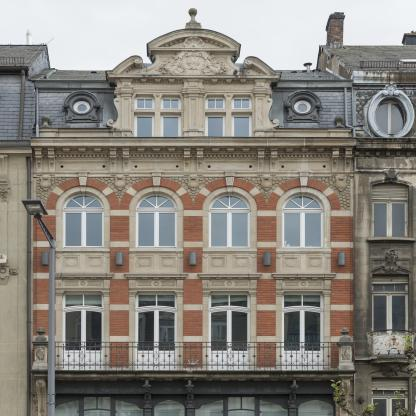Balcony: (31, 341, 355, 376)
Building Outline: (27, 8, 357, 416)
Cornice: (266, 178, 340, 210), (46, 178, 120, 210), (119, 178, 193, 210), (193, 178, 267, 210), (147, 28, 241, 52), (63, 90, 100, 108), (285, 90, 322, 108), (197, 272, 262, 280), (124, 272, 188, 280), (271, 273, 336, 280), (50, 272, 115, 279)
Deco: (155, 50, 232, 75), (157, 36, 231, 48), (39, 177, 52, 191), (187, 177, 200, 191), (260, 177, 273, 191), (114, 176, 126, 191), (335, 177, 347, 191)
Door: (62, 307, 104, 370), (135, 307, 177, 370), (282, 307, 324, 370), (209, 307, 250, 370)
Facade: (33, 80, 353, 415)
Floor: (33, 152, 353, 272), (33, 272, 353, 377)
Floor Slab: (33, 371, 353, 377), (33, 266, 353, 272), (33, 146, 353, 152)
Ground Floor: (33, 377, 353, 416)
Molding: (31, 146, 356, 159), (48, 376, 339, 382), (132, 77, 255, 84)
Pillar: (186, 89, 202, 137), (119, 90, 135, 137), (252, 90, 268, 137)
Roof: (27, 69, 354, 81)
Sill: (276, 248, 331, 259), (129, 248, 184, 259), (55, 248, 110, 258), (202, 248, 257, 258)
Top Floor: (33, 80, 353, 152)
Window: (283, 210, 325, 248), (62, 210, 104, 248), (136, 210, 178, 248), (209, 210, 251, 248), (62, 292, 104, 310), (135, 292, 177, 310), (282, 292, 324, 310), (209, 292, 250, 310), (205, 112, 226, 141), (298, 399, 333, 416), (232, 112, 252, 141), (161, 112, 181, 141), (134, 112, 154, 141), (228, 397, 255, 416), (84, 397, 110, 416), (154, 400, 184, 416), (260, 399, 288, 416), (115, 399, 143, 416), (195, 400, 223, 416), (55, 400, 79, 416), (232, 95, 253, 110), (205, 95, 226, 110), (161, 95, 182, 110), (134, 95, 155, 110)
dont: (21, 199, 57, 416), (330, 379, 359, 416)
